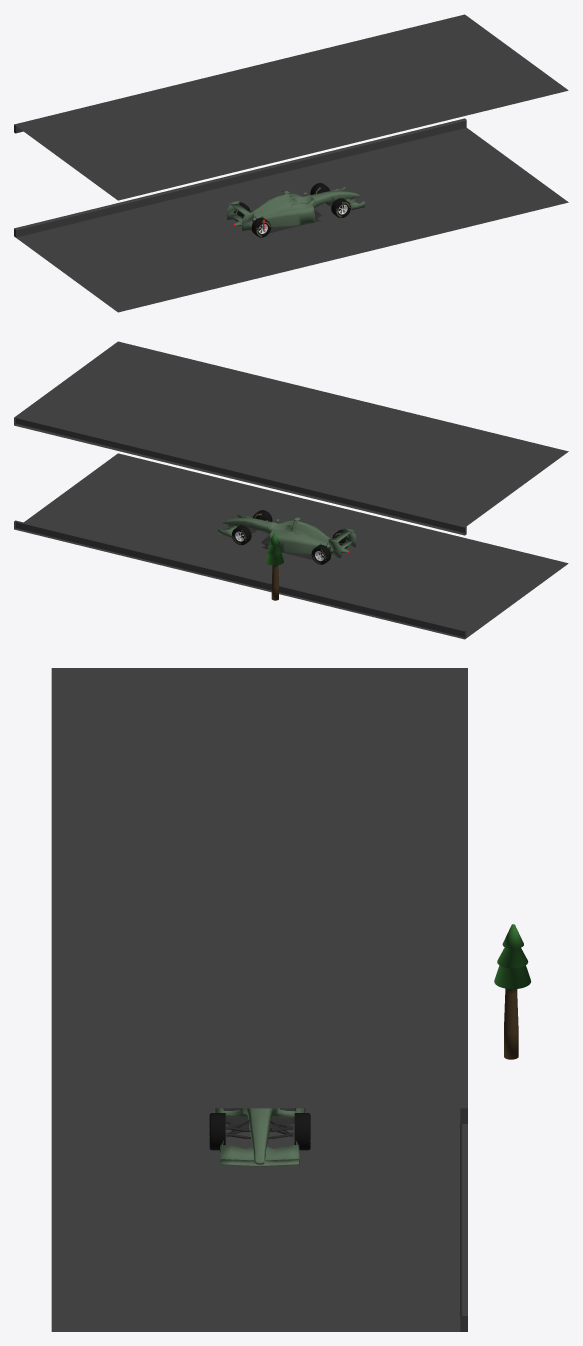
The model's file is f1-car.glb.
The picture shows the model from 3 angles, top to bottom: view 1: azimuth 30°, elevation 25°; view 2: azimuth 150°, elevation 25°; view 3: azimuth 270°, elevation 25°; orthographic projection. The views are drawn at different scales.
Parts seen in each view (by area): view 1: Plane, Plane.001, formula1; view 2: Plane.001, Plane, formula1, Tree; view 3: Plane.001, Plane, formula1, Tree.
Boxes of the visible parts, x1,y1,x2,y2 form: Plane: (14, 118, 568, 312); Plane.001: (14, 14, 568, 200); formula1: (227, 187, 364, 232); Plane.001: (14, 341, 568, 535); Plane: (14, 453, 568, 639); formula1: (218, 514, 355, 559); Tree: (265, 533, 283, 600); Plane.001: (51, 668, 467, 1123); Plane: (51, 1108, 467, 1331); formula1: (214, 1108, 305, 1166); Tree: (494, 924, 531, 1059).
Size of the model in its own units: 21.09 by 5 by 9.71.
Materials: 9 (1 with a texture image).
